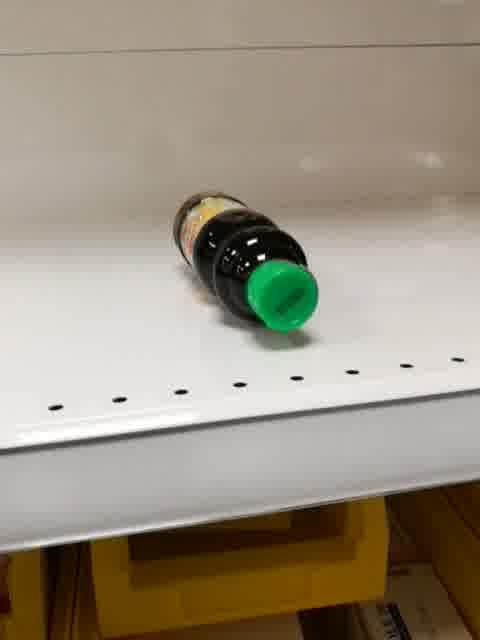cookingoil: (170, 188, 323, 333)
